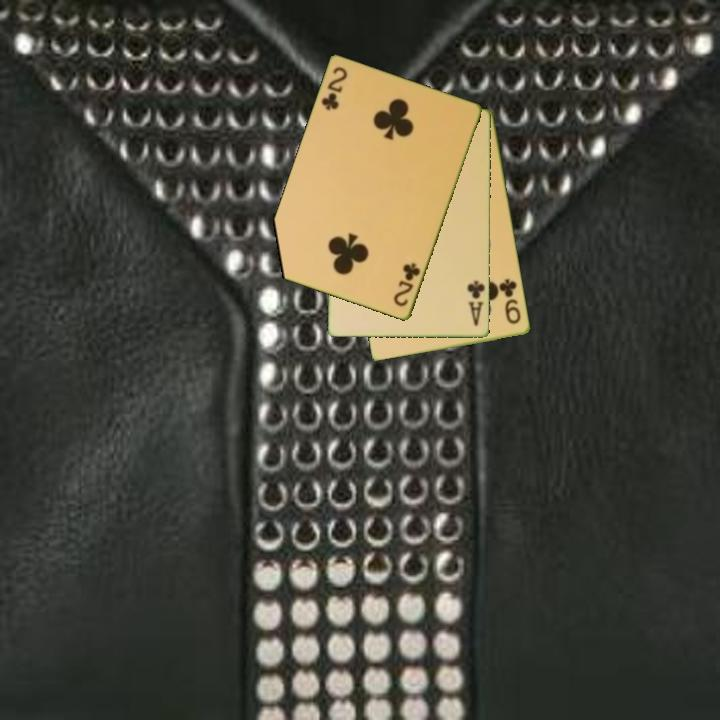2c: (390, 260, 424, 310), (318, 64, 351, 113)
9c: (496, 275, 524, 327)
Ac: (464, 278, 488, 329)
